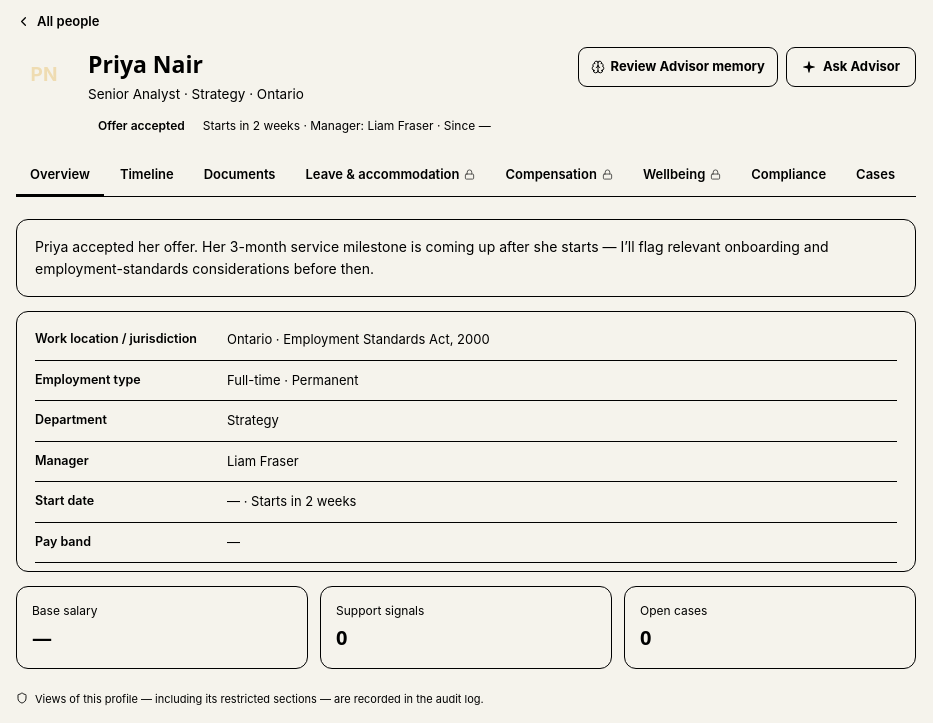
Test: EmployeeProfileView › renders unknown compensation fields safely for Priya (default detail values)
The image size is (933, 723).
Click the tab "Compensation".
click(559, 176)  # box [492, 156, 627, 196]
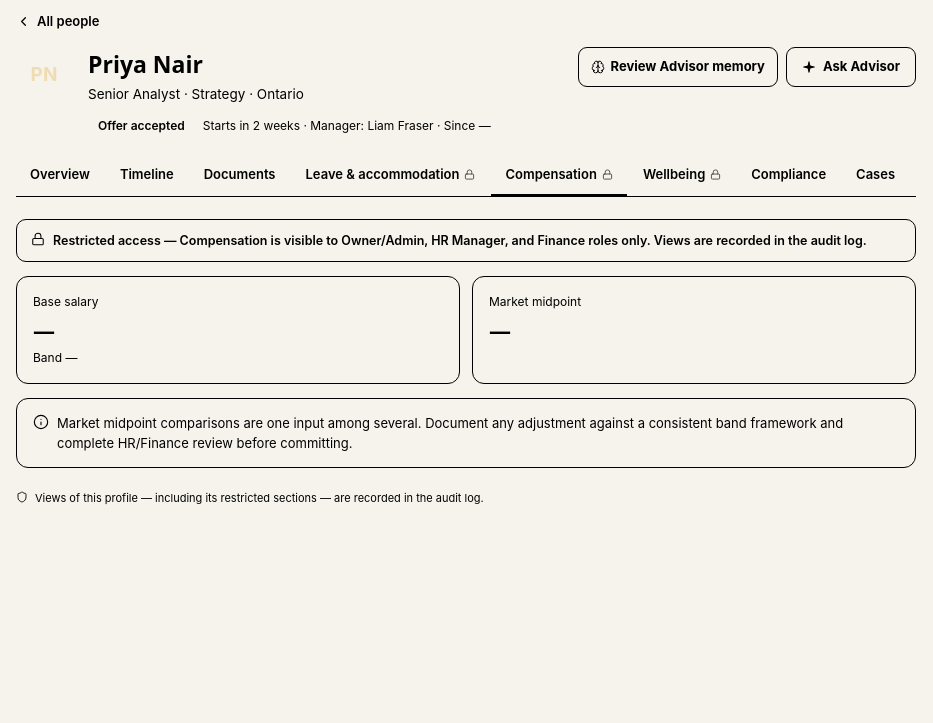
Expected: the text "Market midpoint comparisons are one input" is shown, [57, 415, 843, 451]
